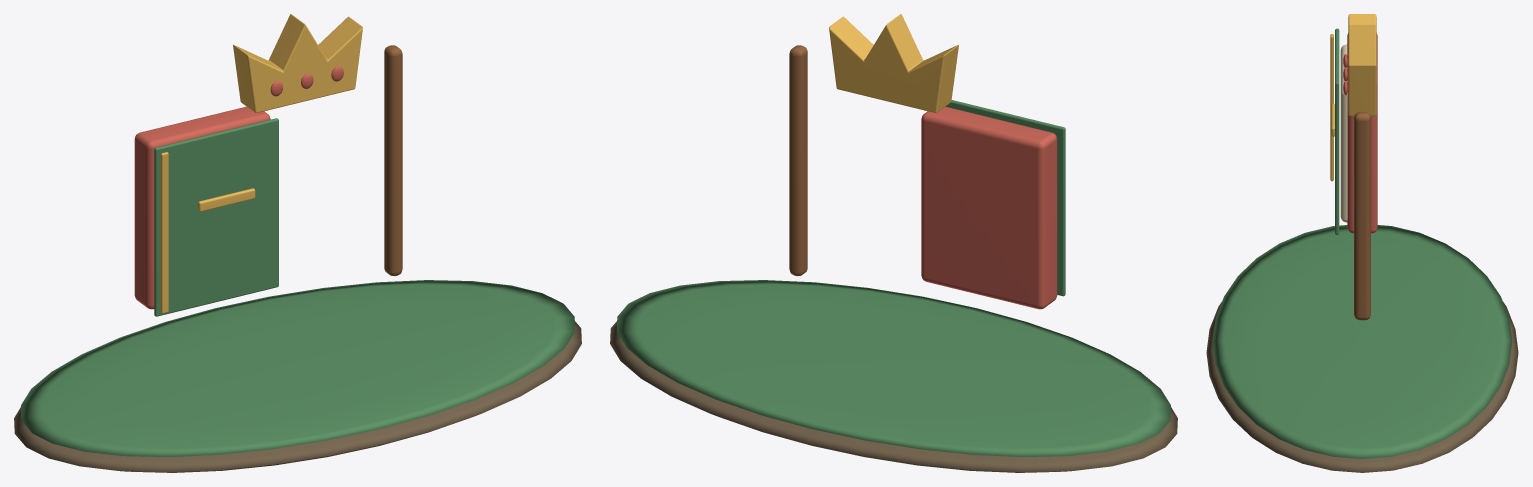
File: complete-second-long-school-leader.glb
The picture shows the model from 3 angles, left to right: view 1: azimuth 30°, elevation 25°; view 2: azimuth 150°, elevation 25°; view 3: azimuth 270°, elevation 25°; orthographic projection. The views are drawn at different scales.
Visible parts, largest first — view 1: complete-second-long-school-leader_surface_01, complete-second-long-school-leader_surface_00, complete-second-long-school-leader_surface_04, complete-second-long-school-leader_surface_02, complete-second-long-school-leader_surface_05; view 2: complete-second-long-school-leader_surface_01, complete-second-long-school-leader_surface_02, complete-second-long-school-leader_surface_00, complete-second-long-school-leader_surface_04, complete-second-long-school-leader_surface_05; view 3: complete-second-long-school-leader_surface_01, complete-second-long-school-leader_surface_00, complete-second-long-school-leader_surface_04, complete-second-long-school-leader_surface_05, complete-second-long-school-leader_surface_02, complete-second-long-school-leader_surface_03.
Boxes of the visible parts, left/top/right/bottom form: complete-second-long-school-leader_surface_01: left=21, top=118, right=574, bottom=457; complete-second-long-school-leader_surface_00: left=14, top=321, right=581, bottom=472; complete-second-long-school-leader_surface_04: left=160, top=14, right=362, bottom=313; complete-second-long-school-leader_surface_02: left=134, top=66, right=343, bottom=309; complete-second-long-school-leader_surface_05: left=384, top=45, right=402, bottom=276; complete-second-long-school-leader_surface_01: left=617, top=100, right=1170, bottom=457; complete-second-long-school-leader_surface_02: left=921, top=106, right=1057, bottom=309; complete-second-long-school-leader_surface_00: left=610, top=321, right=1177, bottom=472; complete-second-long-school-leader_surface_04: left=829, top=14, right=958, bottom=112; complete-second-long-school-leader_surface_05: left=789, top=45, right=807, bottom=276; complete-second-long-school-leader_surface_01: left=1212, top=28, right=1512, bottom=458; complete-second-long-school-leader_surface_00: left=1206, top=302, right=1518, bottom=472; complete-second-long-school-leader_surface_04: left=1330, top=14, right=1376, bottom=181; complete-second-long-school-leader_surface_05: left=1354, top=112, right=1370, bottom=320; complete-second-long-school-leader_surface_02: left=1343, top=33, right=1377, bottom=233; complete-second-long-school-leader_surface_03: left=1340, top=44, right=1347, bottom=222.
Size of the model in its own units: 4.56 by 3.03 by 2.5.
